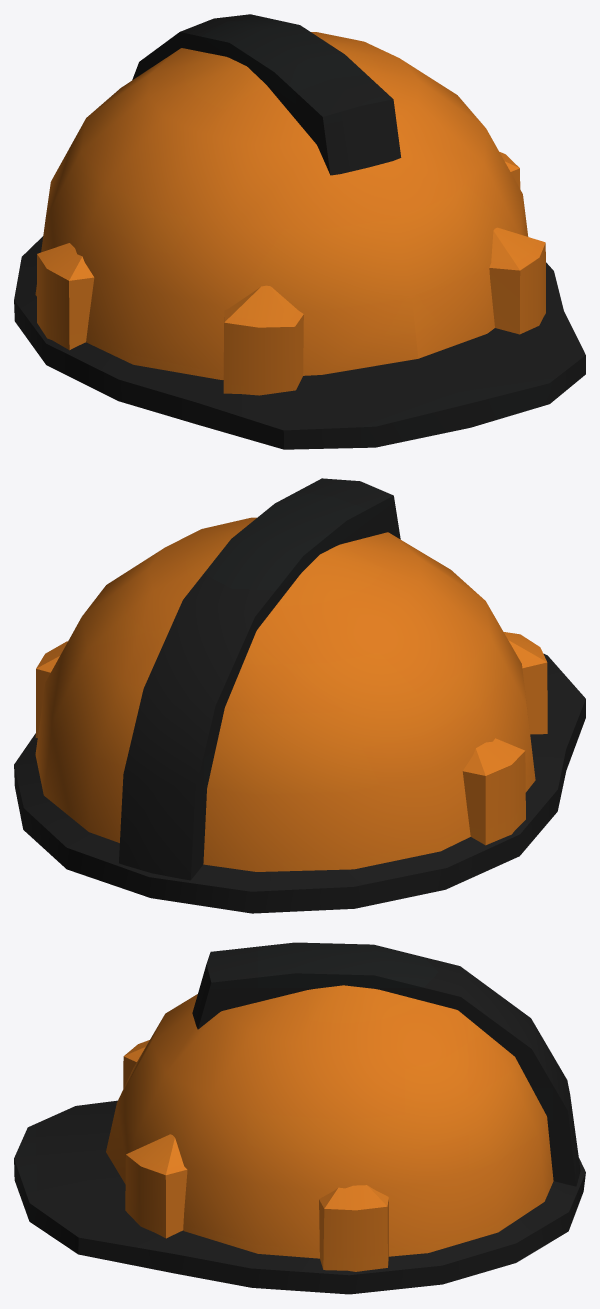
Rendered from roblox_tbc_hard_hat.glb.
3 views of the same model, one above another, from view 1: azimuth 30°, elevation 25°; view 2: azimuth 150°, elevation 25°; view 3: azimuth 270°, elevation 25° (orthographic). The views are drawn at different scales.
Visible parts, largest first — view 1: Object_2; view 2: Object_2; view 3: Object_2.
Part boxes in pixels (x1,y1,x2,y2): Object_2: (14, 14, 585, 449); Object_2: (14, 478, 585, 913); Object_2: (14, 942, 585, 1294).
Size of the model in its own units: 0.3847 by 0.2099 by 0.4559.
1 material, 1 textured.
